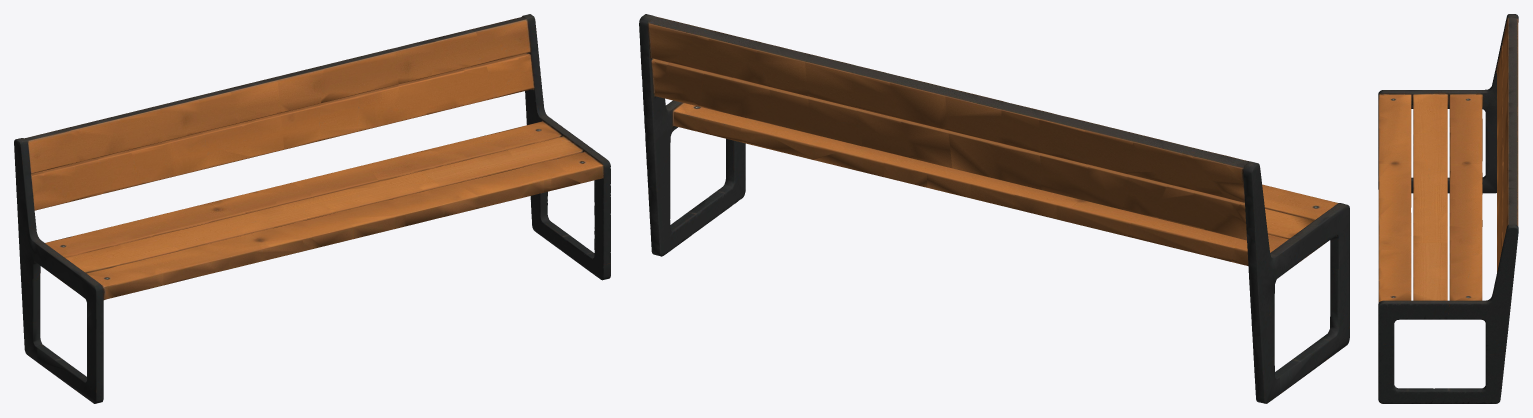
Rendered from benchw.glb.
The picture shows the model from 3 angles, left to right: view 1: azimuth 30°, elevation 25°; view 2: azimuth 150°, elevation 25°; view 3: azimuth 270°, elevation 25°; orthographic projection. The views are drawn at different scales.
Parts seen in each view (by area): view 1: mesh_node; view 2: mesh_node; view 3: mesh_node.
Boxes of the visible parts, x1,y1,x2,y2 form: mesh_node: (14,14,610,403); mesh_node: (639,14,1349,403); mesh_node: (1378,14,1518,403).
Size of the model in its own units: 1.9 by 0.7335 by 0.5286.
1 material, 1 textured.
